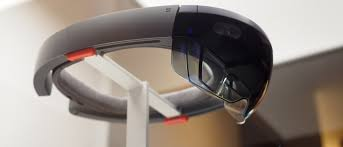hololens: (30, 2, 276, 132)
